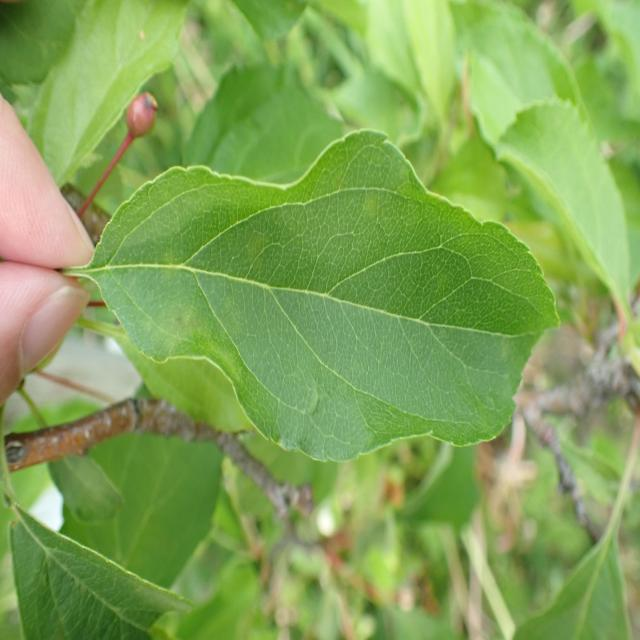scab: (88, 169, 397, 444)
